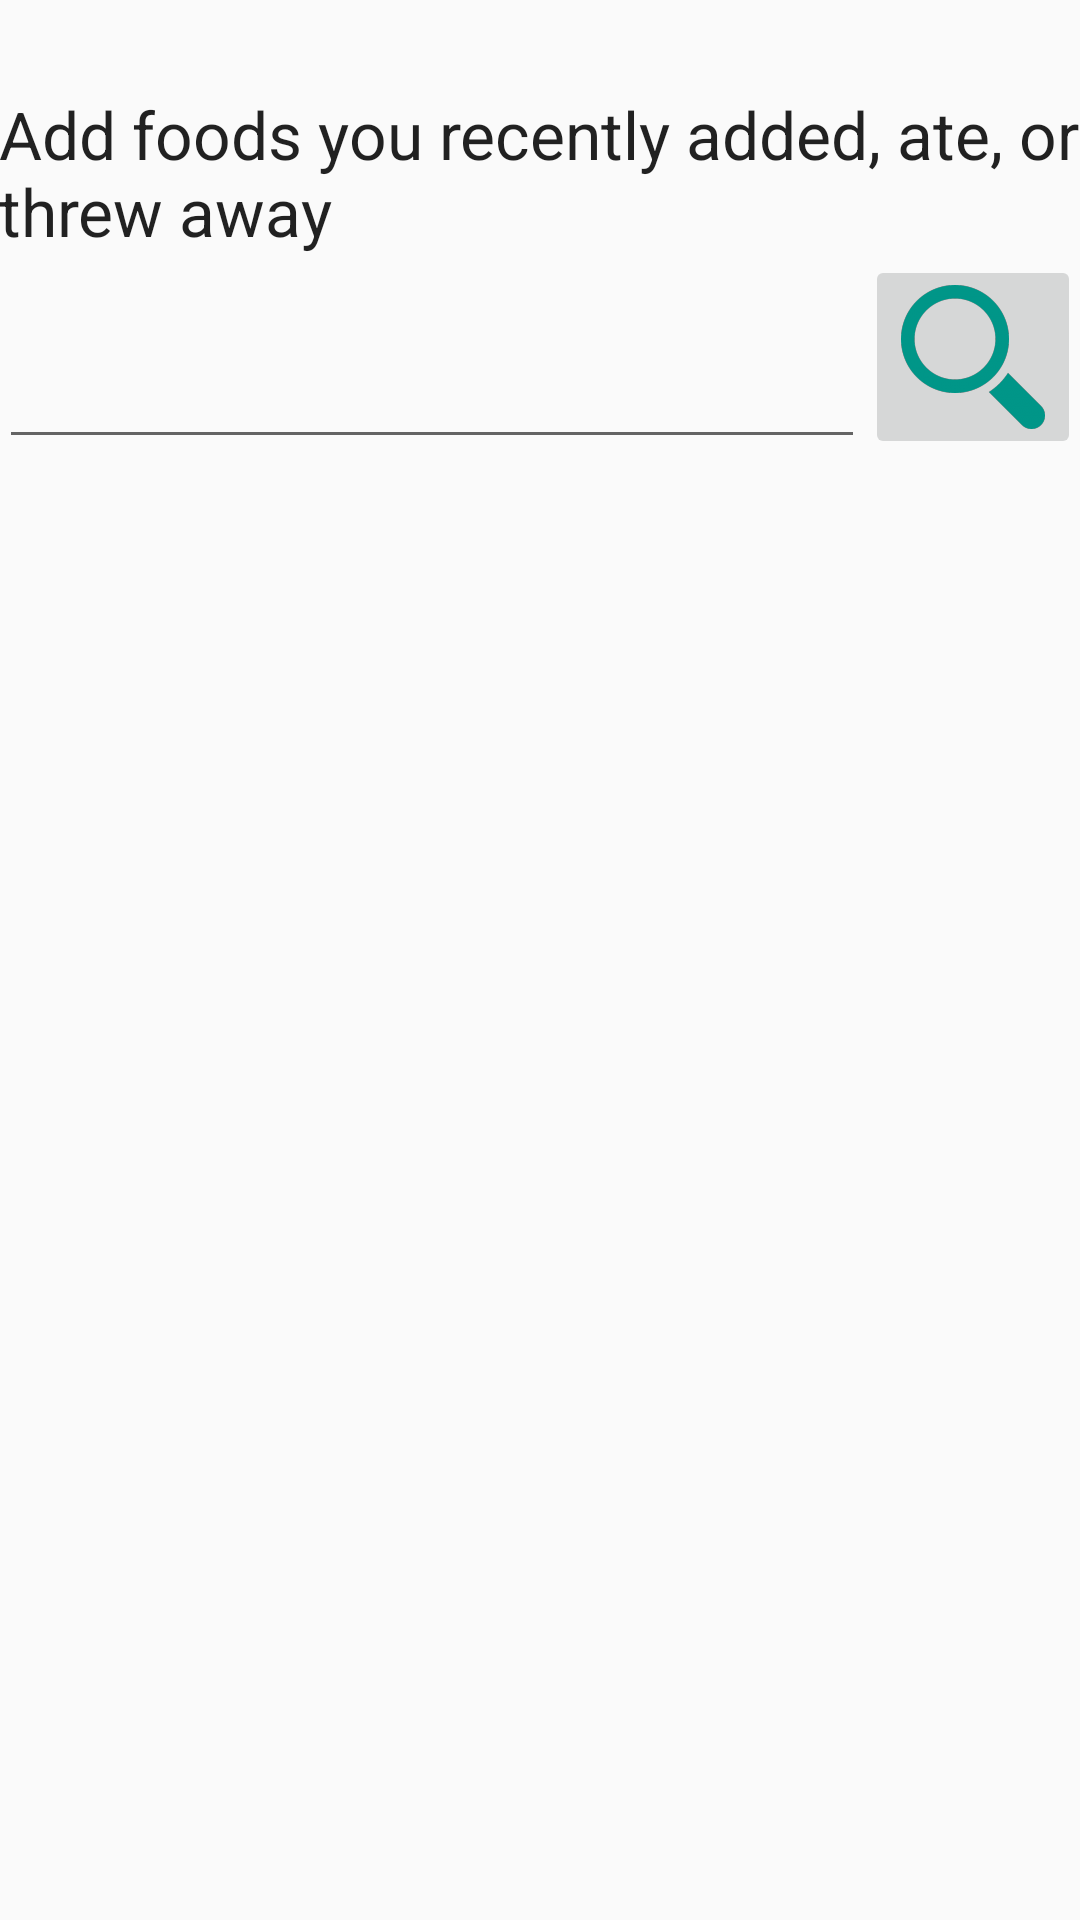

Icon bounding boxes for this 1080 × 1920 phone screenshot, format BBox(x1, y1, x2, y2):
magnifying glass: BBox(877, 273, 1069, 441)
